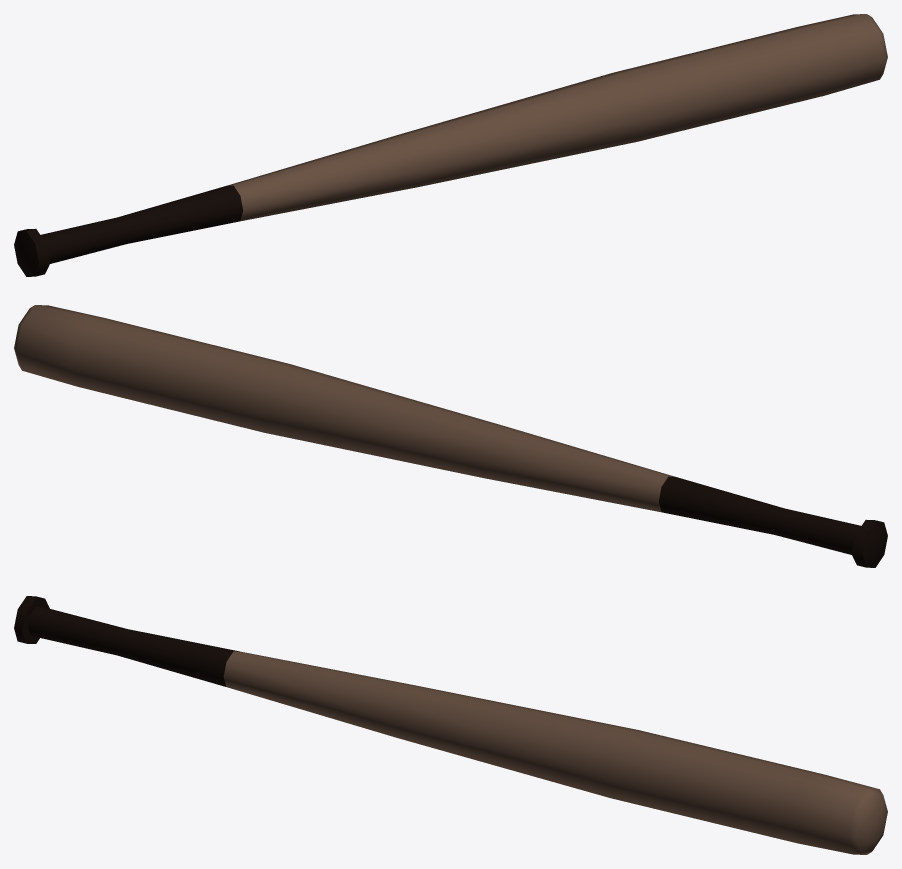
File: BaseballBat.FBX
The picture shows the model from 3 angles, top to bottom: view 1: azimuth 30°, elevation 25°; view 2: azimuth 150°, elevation 25°; view 3: azimuth 330°, elevation 25°; orthographic projection.
Visible parts, largest first — view 1: Weapon_baseboll_01; view 2: Weapon_baseboll_01; view 3: Weapon_baseboll_01.
Part boxes in pixels (x1,y1,x2,y2): Weapon_baseboll_01: (14,14,887,276); Weapon_baseboll_01: (14,305,887,567); Weapon_baseboll_01: (14,596,887,854).
Size of the model in its own units: 72.77 by 5.64 by 5.65.
